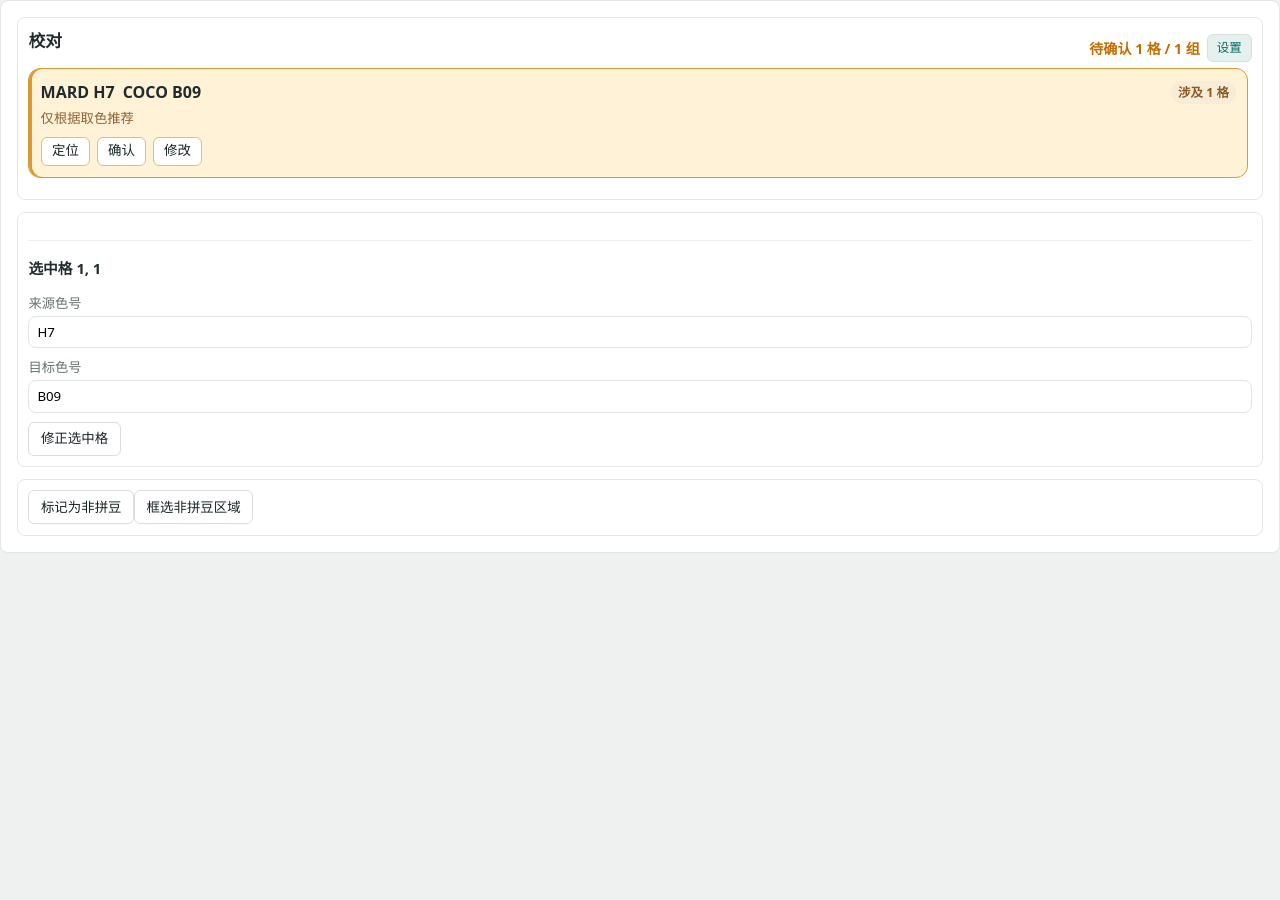
it: chooses correction candidates from the uploaded source recognition colors
The image size is (1280, 900).
Click the button "修改" at (178, 151), box top-left (153, 137), bottom-right (202, 166)
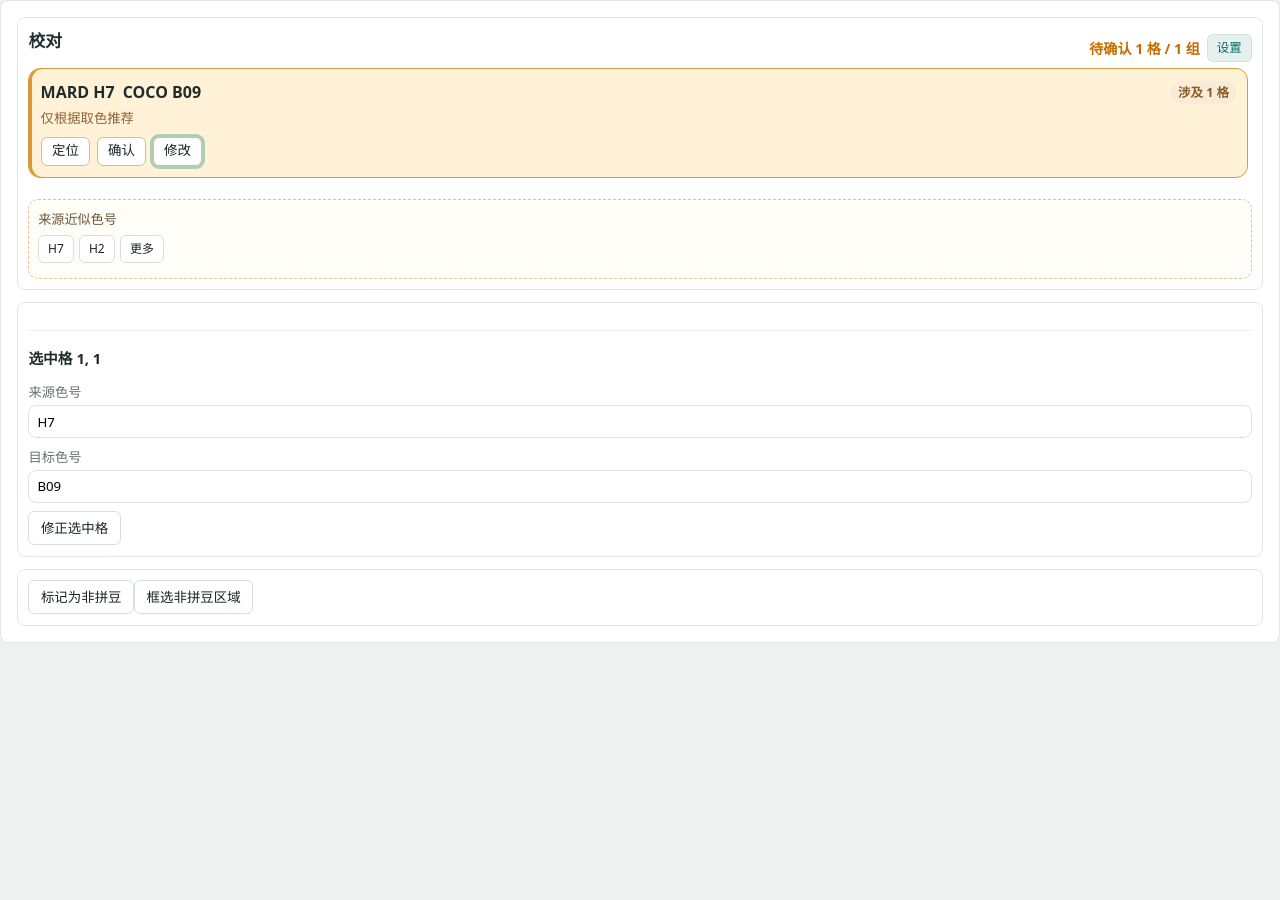
Check: the buttons read "H7", "H2", "更多", in this order, box top-left (38, 235), bottom-right (74, 263); top-left (79, 235), bottom-right (114, 263); top-left (120, 235), bottom-right (164, 263)
